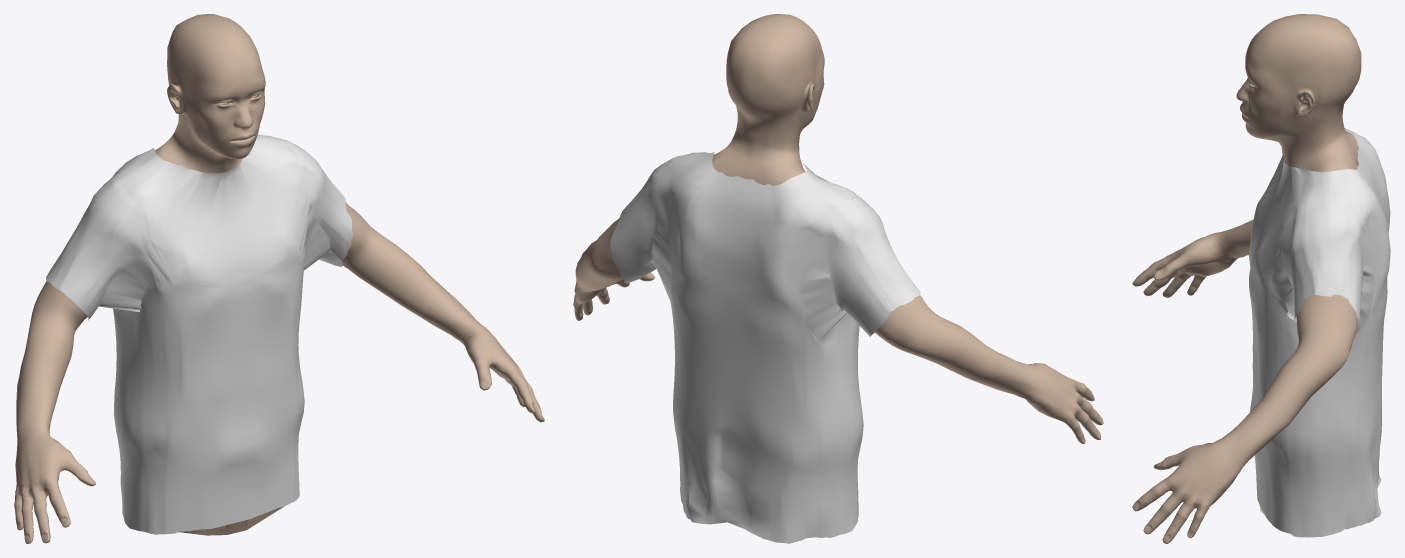
3 views of the same model, side by side, from view 1: azimuth 30°, elevation 25°; view 2: azimuth 150°, elevation 25°; view 3: azimuth 270°, elevation 25° (orthographic).
Parts seen in each view (by area): view 1: Cube, Base; view 2: Cube, Base; view 3: Cube, Base.
Boxes of the visible parts, <box> form: Cube: <box>46,134,352,534</box>; Base: <box>14,14,544,543</box>; Cube: <box>610,152,920,543</box>; Base: <box>573,14,1103,443</box>; Cube: <box>1249,128,1390,537</box>; Base: <box>1132,14,1361,543</box>.
Bounding box in the file's own units: 9.07 × 8.3 × 3.99.
